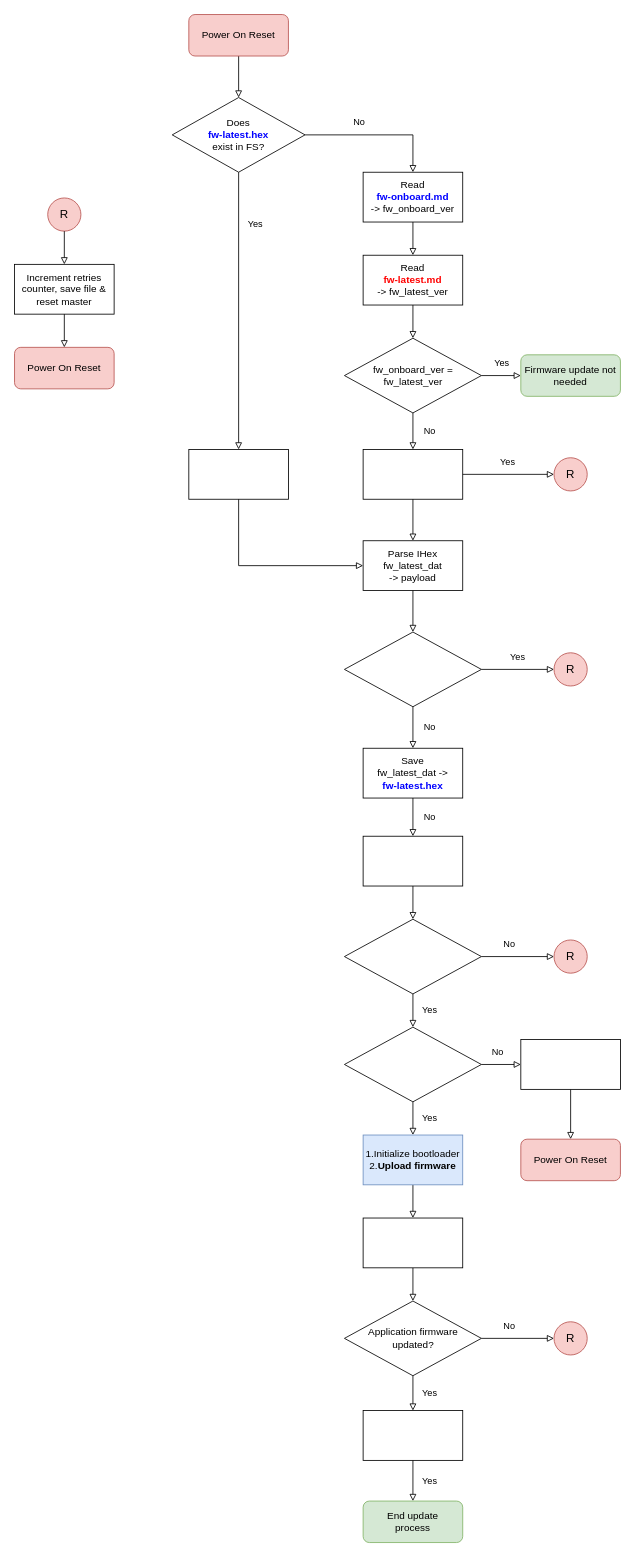
The diagram is 635 pixels wide and 1557 high, and some of its shapes have lost their labels. The centre of each missing label's shape, as x and y in pixels:
Assign fw-latest-hex -> fw_latest_dat: the point at 238,474
Bootloader TWI address?: the point at 412,1064
Download firmware-x.x.x.hex -> fw_latest_dat: the point at 412,474
IHex parse errors?: the point at 412,669
Rename fw-latest.hex -> fw-onboard.hex: the point at 412,1435
Reset ATtiny85 to stop application and start bootloader: the point at 570,1064
Scan TWI bus: the point at 412,860
Start application Verify app version: the point at 412,1242
TWI device detected?: the point at 412,956
